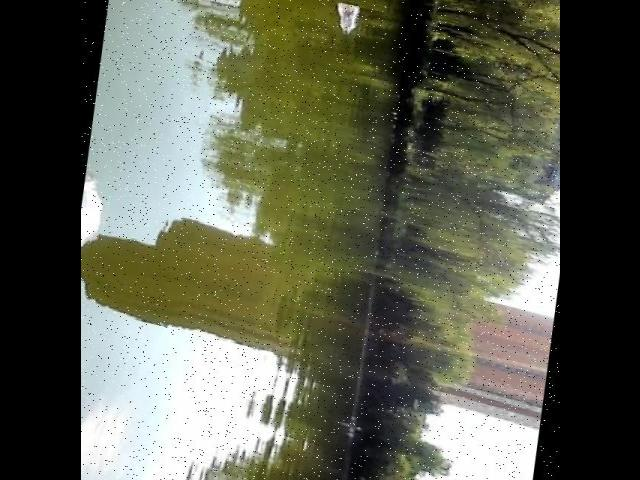Waste: (329, 0, 363, 42)
